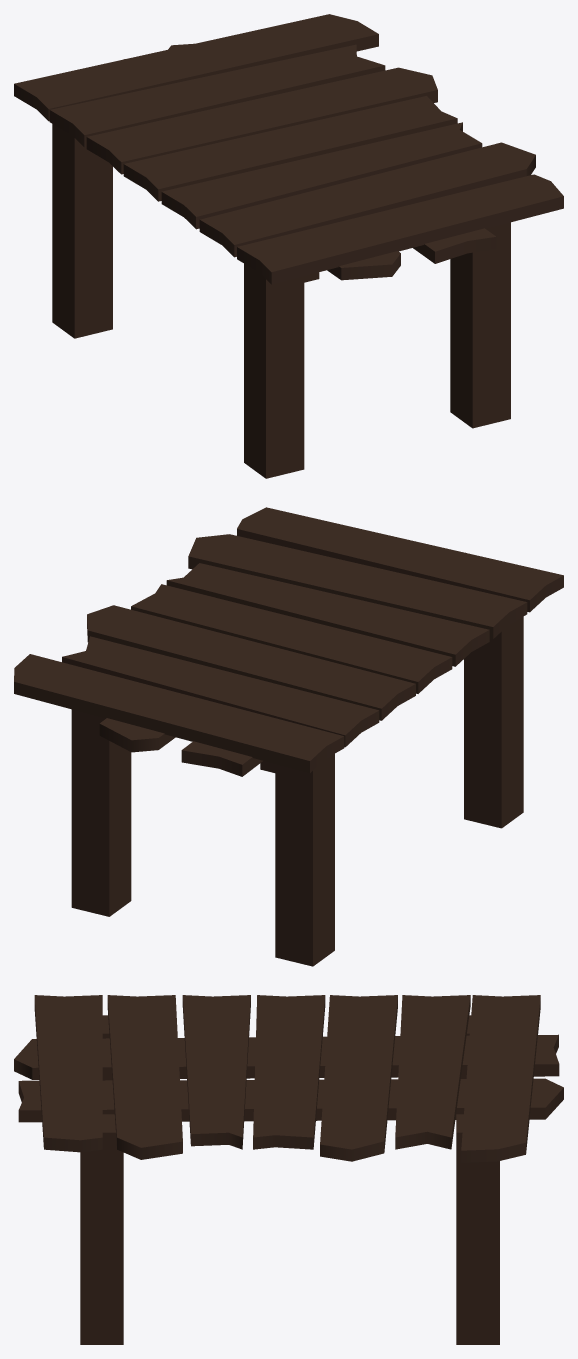
The model's file is envi_woodAttic3.fbx.
The picture shows the model from 3 angles, top to bottom: view 1: azimuth 30°, elevation 25°; view 2: azimuth 150°, elevation 25°; view 3: azimuth 270°, elevation 25°; orthographic projection.
Visible parts, largest first — view 1: pCube64; view 2: pCube64; view 3: pCube64.
Boxes of the visible parts, x1=… form: pCube64: x1=14, y1=14, x2=563, y2=478; pCube64: x1=14, y1=507, x2=563, y2=966; pCube64: x1=14, y1=995, x2=563, y2=1344.
Size of the model in its own units: 3.04 by 2.04 by 4.54.
